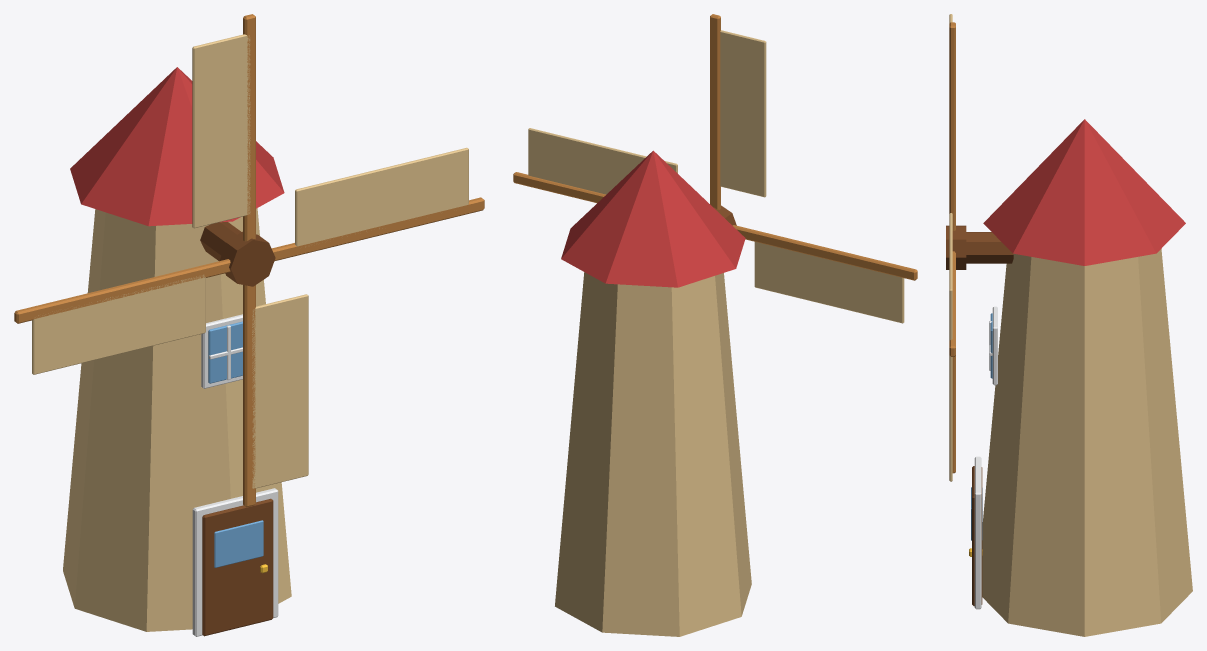
File: Windmill.fbx
The picture shows the model from 3 angles, left to right: view 1: azimuth 30°, elevation 25°; view 2: azimuth 150°, elevation 25°; view 3: azimuth 270°, elevation 25°; orthographic projection. The views are drawn at different scales.
Visible parts, largest first — view 1: Windmill, Windmill_Blades; view 2: Windmill, Windmill_Blades; view 3: Windmill, Windmill_Blades.
Boxes of the visible parts, x1,y1,x2,y2 form: Windmill: (63, 67, 291, 636); Windmill_Blades: (14, 14, 484, 507); Windmill: (555, 150, 751, 636); Windmill_Blades: (513, 14, 917, 323); Windmill: (966, 119, 1192, 636); Windmill_Blades: (946, 14, 966, 481).
Bounding box in the file's own units: 14.6 × 18.5 × 7.3.
1 material, 1 textured.
